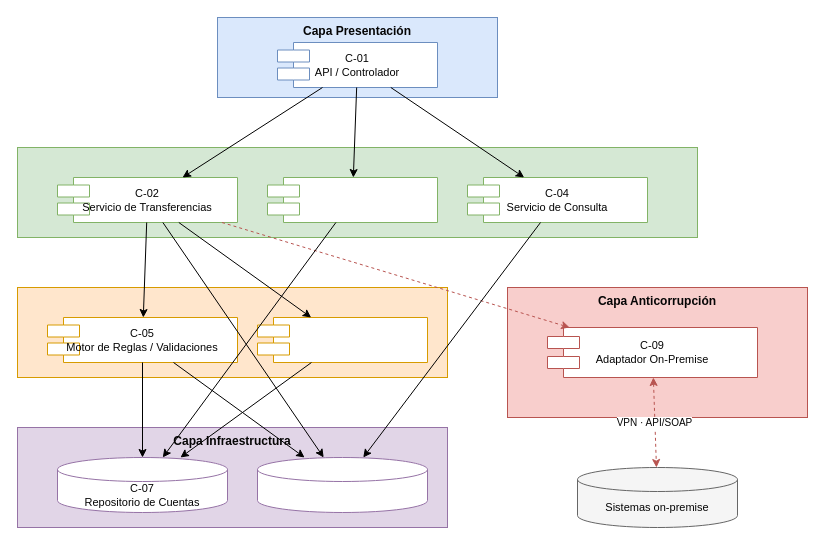
This 825x545 diagram has some shape labels left out. Here are the shapes that lost their labels. From the top down, the box of each, then its label:
(266, 176, 438, 222): C-03 Servicio de Cuentas
(16, 146, 698, 238): Capa Aplicación
(16, 286, 448, 378): Capa Dominio
(256, 316, 428, 362): C-06 Procesador de Transacción Atómica
(256, 456, 428, 512): C-08 Repositorio de Historial
